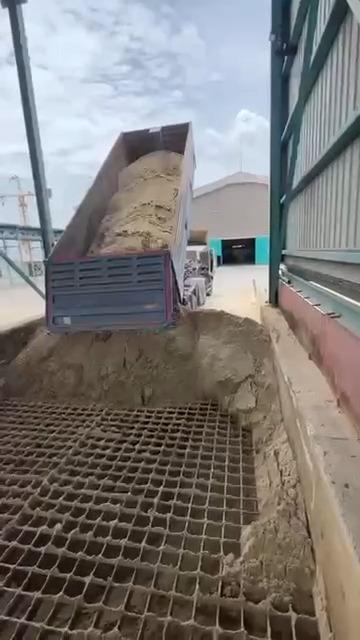sand: (4, 311, 313, 611), (7, 311, 269, 410), (223, 400, 314, 614), (223, 421, 314, 614), (242, 421, 314, 614), (88, 151, 180, 254), (250, 402, 251, 405), (256, 406, 257, 409), (270, 383, 271, 385)
